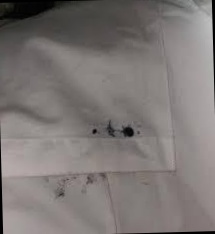ink: (86, 120, 141, 140), (54, 174, 100, 197)
